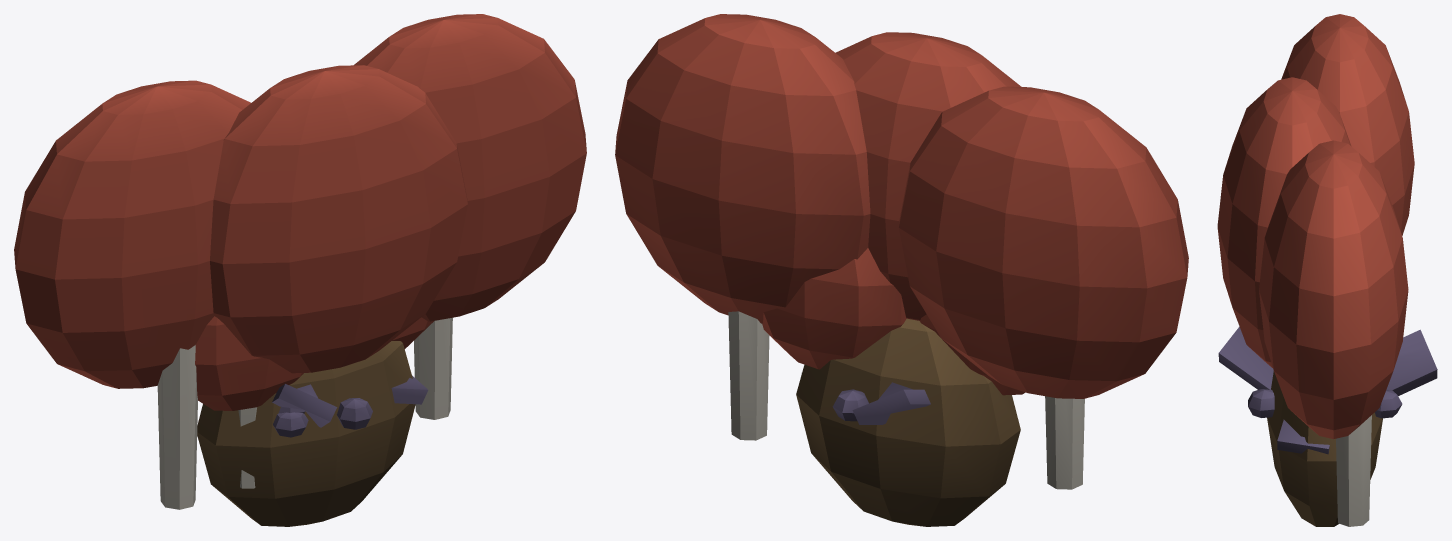
File: crop_deathcap.glb
The picture shows the model from 3 angles, left to right: view 1: azimuth 30°, elevation 25°; view 2: azimuth 150°, elevation 25°; view 3: azimuth 270°, elevation 25°; orthographic projection. The views are drawn at different scales.
Parts seen in each view (by area): view 1: cap.001, cap, cap.002, seed_mound, mstalk, cap2, mstalk.002, sprout_leaf.002, seed.002, sprout_leaf, seed.001; view 2: cap, cap.002, seed_mound, cap.001, cap2.001, mstalk.002, mstalk, sprout_leaf.001, seed.004; view 3: cap.002, cap.001, cap, seed_mound, mstalk.002, sprout_leaf.001, sprout_leaf.002, sprout_leaf, seed.002, seed.004.
Part boxes in pixels (x1,y1,x2,y2): cap.001: [210, 65, 467, 373]; cap: [14, 80, 250, 388]; cap.002: [354, 14, 586, 321]; seed_mound: [197, 341, 415, 526]; mstalk: [157, 345, 197, 509]; cap2: [195, 316, 303, 410]; mstalk.002: [414, 317, 452, 419]; sprout_leaf.002: [272, 383, 337, 427]; seed.002: [337, 398, 372, 429]; sprout_leaf: [391, 375, 428, 404]; seed.001: [273, 412, 308, 437]; cap: [898, 86, 1188, 398]; cap.002: [615, 14, 870, 323]; seed_mound: [796, 318, 1020, 526]; cap.001: [835, 32, 1021, 320]; cap2.001: [762, 248, 906, 369]; mstalk.002: [728, 311, 769, 440]; mstalk: [1045, 396, 1084, 489]; sprout_leaf.001: [852, 382, 930, 424]; seed.004: [832, 389, 868, 421]; cap.002: [1259, 140, 1408, 438]; cap.001: [1217, 77, 1351, 367]; cap: [1281, 14, 1414, 235]; seed_mound: [1267, 371, 1382, 526]; mstalk.002: [1336, 415, 1371, 526]; sprout_leaf.001: [1386, 329, 1437, 396]; sprout_leaf.002: [1218, 326, 1273, 389]; sprout_leaf: [1277, 419, 1329, 454]; seed.002: [1248, 389, 1274, 417]; seed.004: [1375, 390, 1402, 418].
Bounding box in the file's own units: 0.8 × 0.63 × 0.2942.
